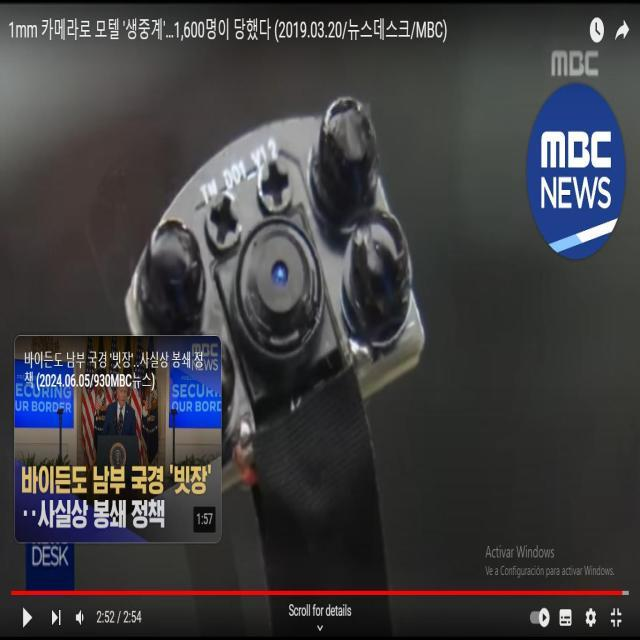hidden camera: (250, 228, 309, 322)
